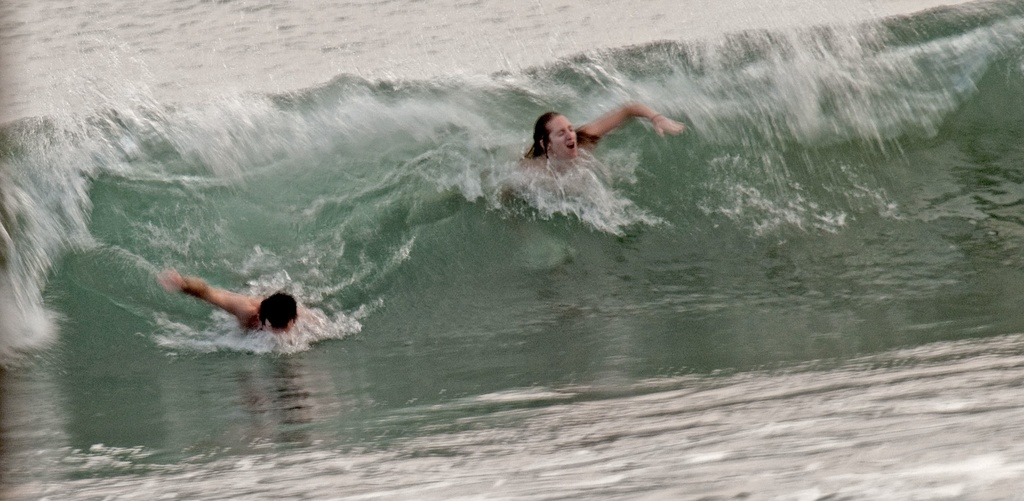Person: (155, 266, 314, 448), (517, 102, 683, 164)
